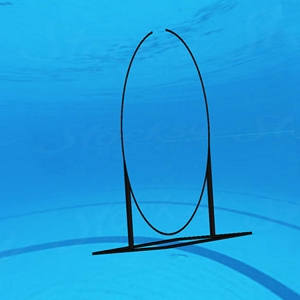circle: (90, 27, 254, 256)
